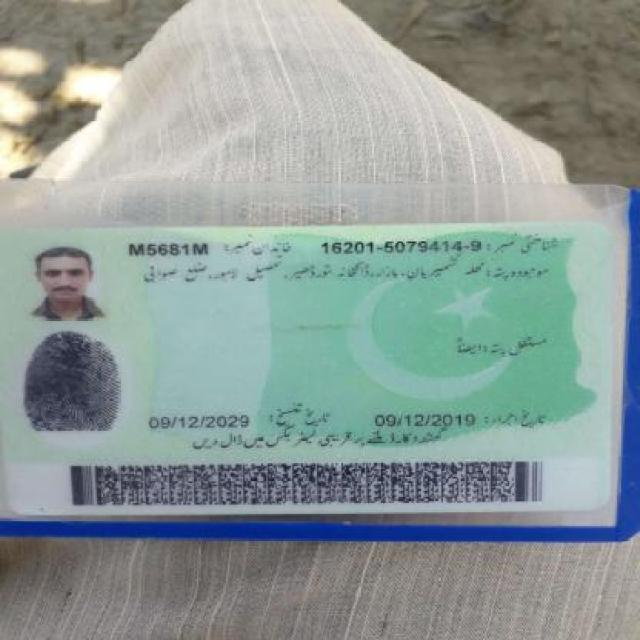Back: (5, 220, 623, 522)
